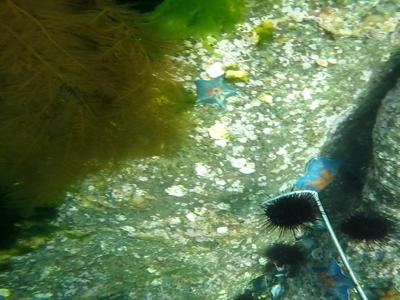urchin: (257, 193, 317, 228), (344, 214, 389, 242), (267, 242, 305, 264)
